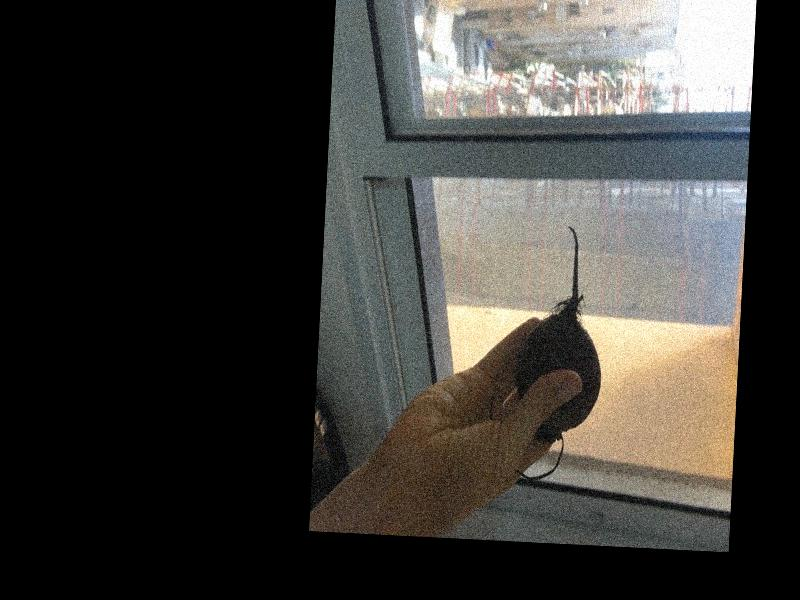Beet: (485, 222, 608, 482)
